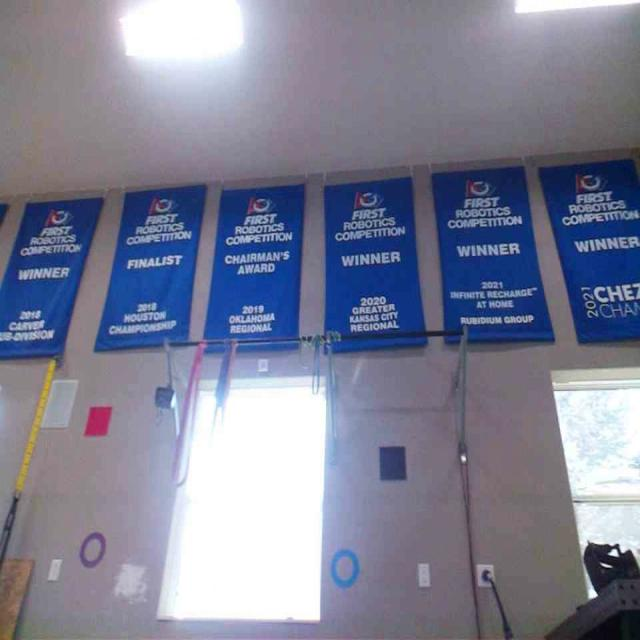ring_blue: (330, 548, 360, 586)
ring_purple: (79, 532, 106, 567)
square_black: (377, 445, 407, 480)
square_red: (84, 406, 114, 436)
